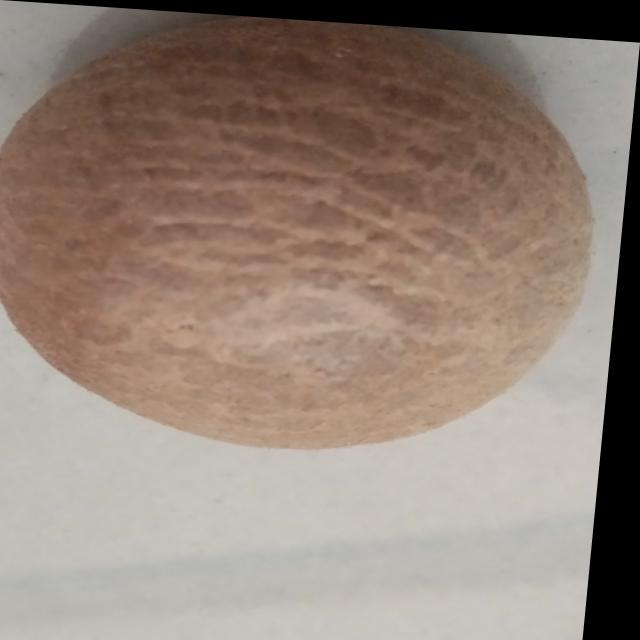good: (0, 1, 622, 487)
